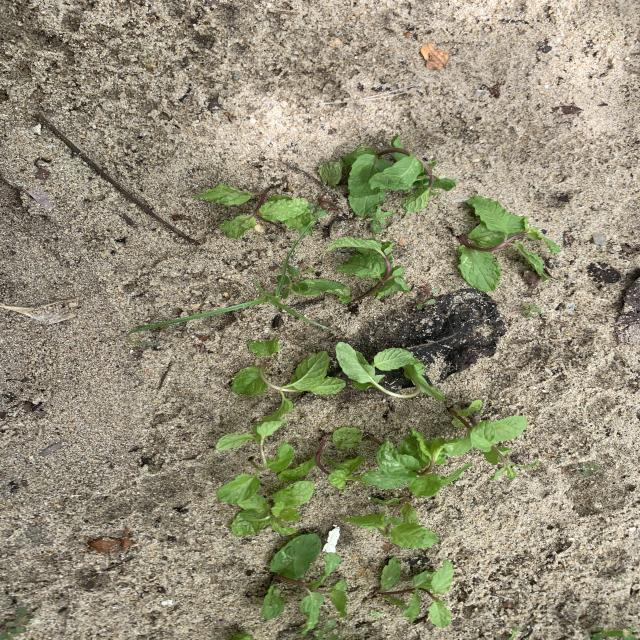crop: (216, 351, 345, 467), (319, 136, 455, 215), (458, 197, 559, 291), (261, 534, 346, 633), (289, 238, 409, 303), (197, 184, 327, 238), (335, 342, 444, 401), (447, 400, 527, 479), (360, 429, 451, 495), (372, 558, 453, 626), (278, 427, 364, 489), (229, 480, 314, 535), (218, 442, 292, 505), (344, 498, 438, 547), (247, 338, 279, 357)
weed: (130, 225, 331, 332), (0, 608, 31, 639), (370, 206, 391, 233), (313, 620, 338, 639), (590, 629, 636, 639), (577, 462, 598, 475), (522, 303, 540, 317), (507, 628, 521, 639), (370, 610, 382, 617)
